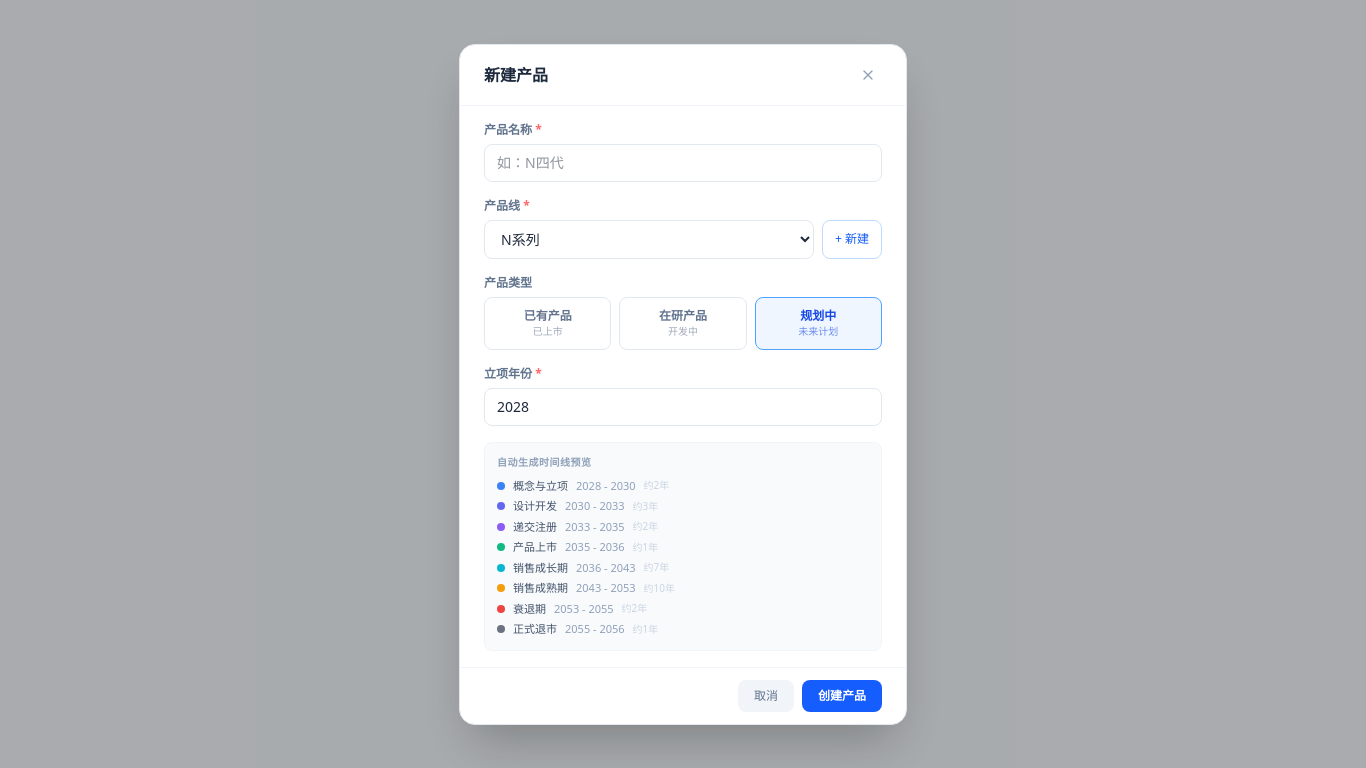
Test case: AddProductDialog › shows errors when submitting with empty name
The image size is (1366, 768).
Click the button "创建产品" at coordinates (842, 696), box [802,680,882,712]
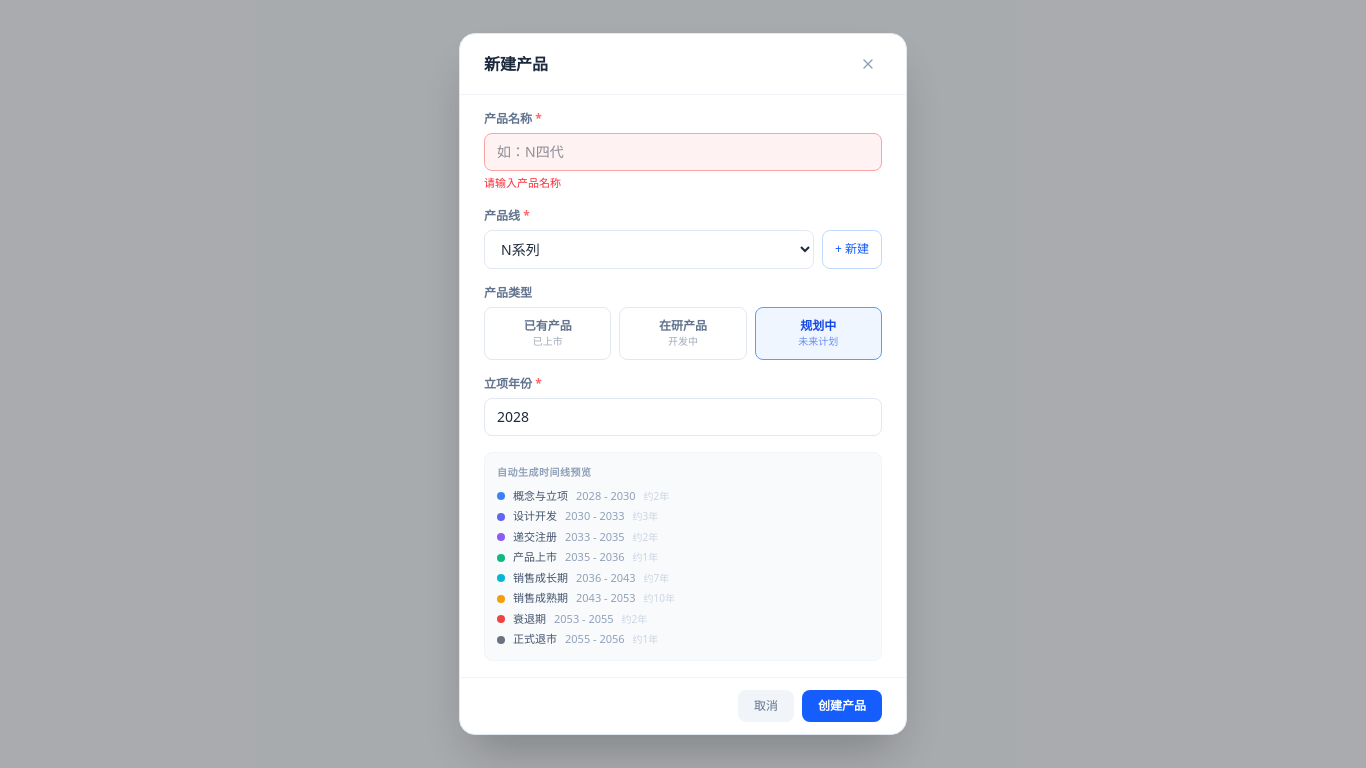
Now the text "请输入产品名称" is shown, box [484,175,561,190]
